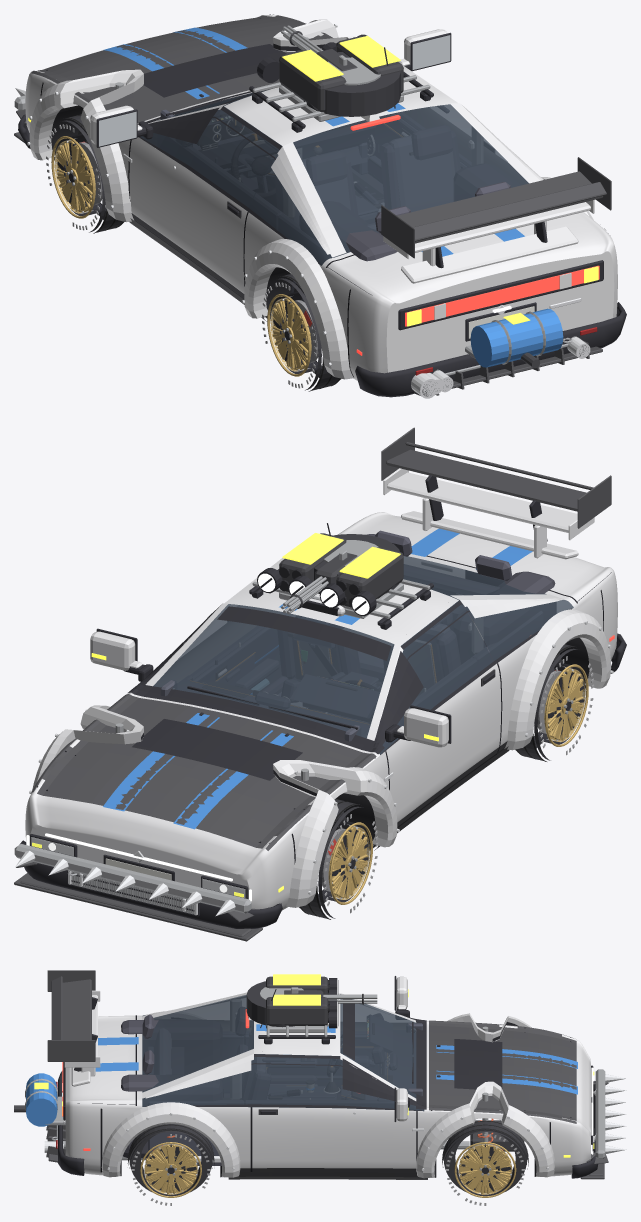
The picture shows the model from 3 angles, top to bottom: view 1: azimuth 30°, elevation 25°; view 2: azimuth 150°, elevation 25°; view 3: azimuth 270°, elevation 25°; orthographic projection. The views are drawn at different scales.
Visible parts, largest first — view 1: BODY, PART_flares_widebody, PART_hood_carbon, PART_spoiler_gt, MESH_DRIVER_WINDOW, PART_roof_rack, PART_weapon_rockets, PART_weapon_oil, PART_hood_vent, PART_spoiler_lip, PART_spoiler_wing, WHEEL_RL (+8 smaller); view 2: BODY, PART_hood_carbon, PART_flares_widebody, PART_spoiler_gt, MESH_DRIVER_WINDOW, PART_hood_vent, PART_weapon_rockets, PART_spoiler_wing, PART_weapon_spikes, PART_roof_rack, WHEEL_FL, PART_spoiler_lip (+9 smaller); view 3: BODY, PART_hood_carbon, PART_flares_widebody, PART_spoiler_gt, PART_weapon_rockets, PART_hood_vent, WHEEL_FR, WHEEL_RR, PART_roof_rack, PART_weapon_oil, PART_weapon_spikes, PART_skirt_aero (+11 smaller).
Boxes of the visible parts, x1,y1,x2,y2 form: BODY: [18, 14, 626, 397]; PART_flares_widebody: [27, 19, 593, 379]; PART_hood_carbon: [31, 14, 333, 122]; PART_spoiler_gt: [381, 157, 611, 268]; MESH_DRIVER_WINDOW: [140, 106, 282, 207]; PART_roof_rack: [249, 34, 433, 132]; PART_weapon_rockets: [279, 35, 403, 121]; PART_weapon_oil: [465, 308, 563, 368]; PART_hood_vent: [143, 44, 286, 97]; PART_spoiler_lip: [401, 226, 578, 283]; PART_spoiler_wing: [383, 200, 594, 266]; WHEEL_RL: [262, 274, 341, 391]; BODY: [19, 512, 626, 928]; PART_hood_carbon: [31, 694, 376, 850]; PART_flares_widebody: [29, 609, 613, 907]; PART_spoiler_gt: [381, 427, 611, 541]; MESH_DRIVER_WINDOW: [379, 600, 493, 754]; PART_hood_vent: [132, 719, 302, 780]; PART_weapon_rockets: [279, 533, 403, 618]; PART_spoiler_wing: [383, 468, 594, 558]; PART_weapon_spikes: [14, 844, 251, 916]; PART_roof_rack: [249, 534, 433, 629]; WHEEL_FL: [299, 799, 378, 919]; PART_spoiler_lip: [401, 511, 578, 559]; BODY: [51, 976, 598, 1178]; PART_hood_carbon: [429, 1020, 576, 1123]; PART_flares_widebody: [101, 1011, 554, 1178]; PART_spoiler_gt: [47, 970, 97, 1071]; PART_weapon_rockets: [266, 974, 329, 1032]; PART_hood_vent: [454, 1039, 502, 1089]; WHEEL_FR: [442, 1120, 528, 1205]; WHEEL_RR: [127, 1124, 214, 1205]; PART_roof_rack: [246, 978, 338, 1044]; PART_weapon_oil: [14, 1073, 65, 1126]; PART_weapon_spikes: [595, 1069, 626, 1158]; PART_skirt_aero: [228, 1172, 427, 1179].
Bounding box in the file's own units: 2.49 × 1.66 × 5.11.
